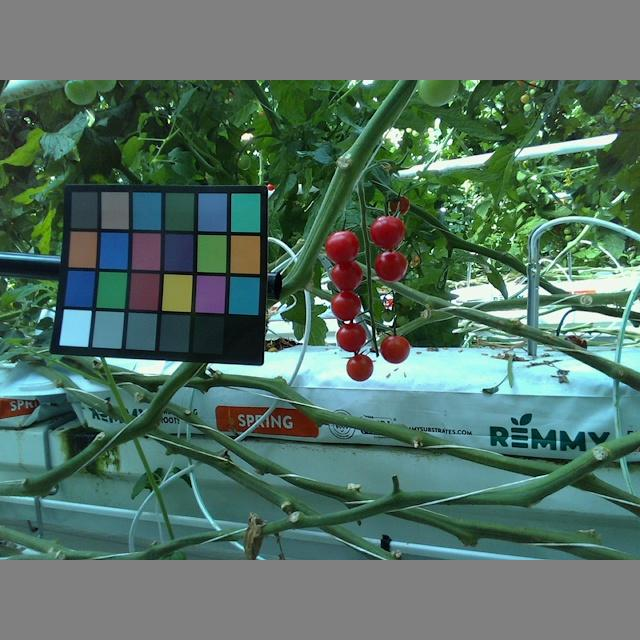red: (370, 212, 406, 250), (375, 247, 408, 284), (324, 229, 359, 263), (330, 259, 363, 291), (380, 333, 410, 364), (332, 289, 361, 321), (336, 323, 366, 352), (345, 354, 373, 380)
